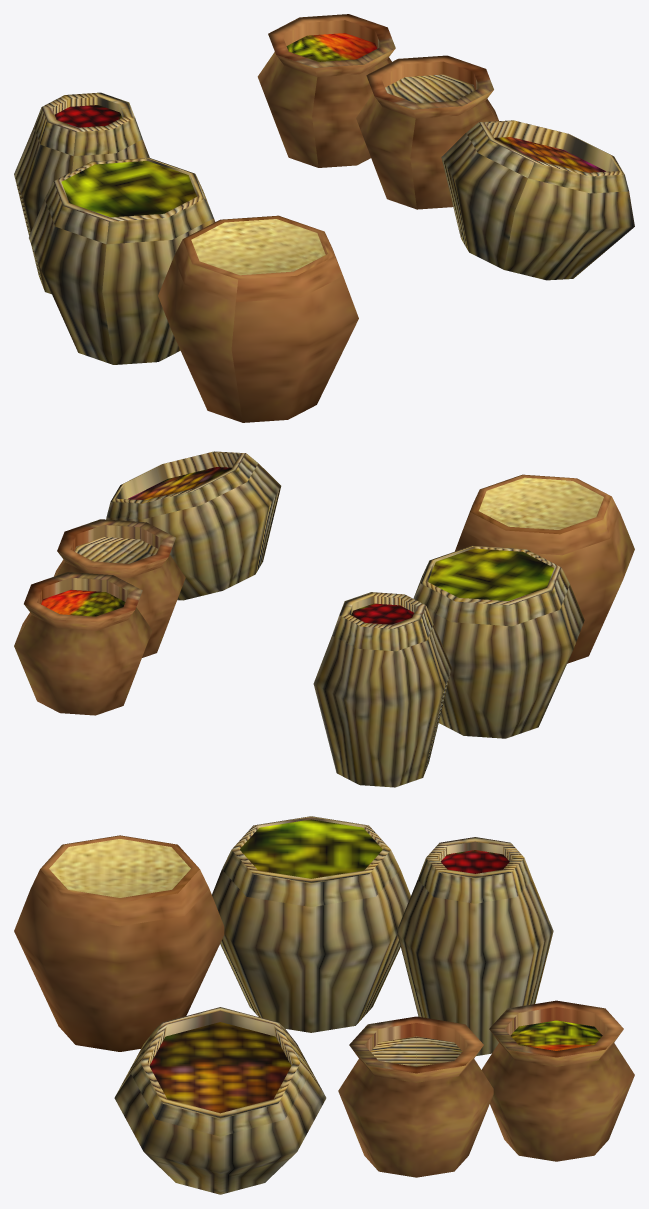
Rendered from moch_trade.dae.
The picture shows the model from 3 angles, top to bottom: view 1: azimuth 30°, elevation 25°; view 2: azimuth 150°, elevation 25°; view 3: azimuth 270°, elevation 25°; orthographic projection. The views are drawn at different scales.
Visible parts, largest first — view 1: Cubo.034; view 2: Cubo.034; view 3: Cubo.034.
Part boxes in pixels (box(x1,y1,x2,y2)): Cubo.034: box(14, 14, 634, 422); Cubo.034: box(14, 451, 634, 787); Cubo.034: box(14, 816, 634, 1194).
Bounding box in the file's own units: 3.2 × 3.08 × 0.9659.
